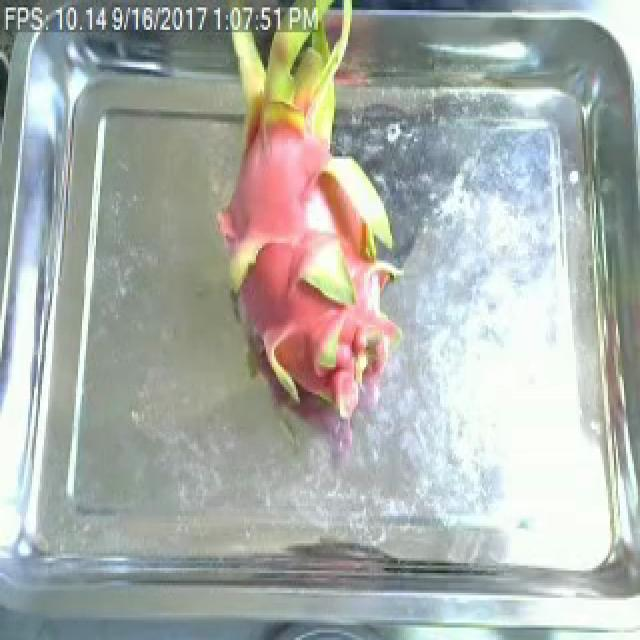fruit: (206, 8, 422, 434)
